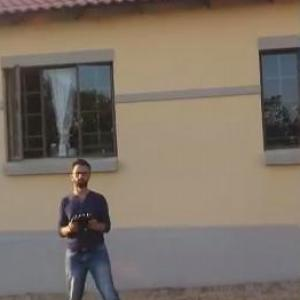follow: (54, 153, 132, 299)
